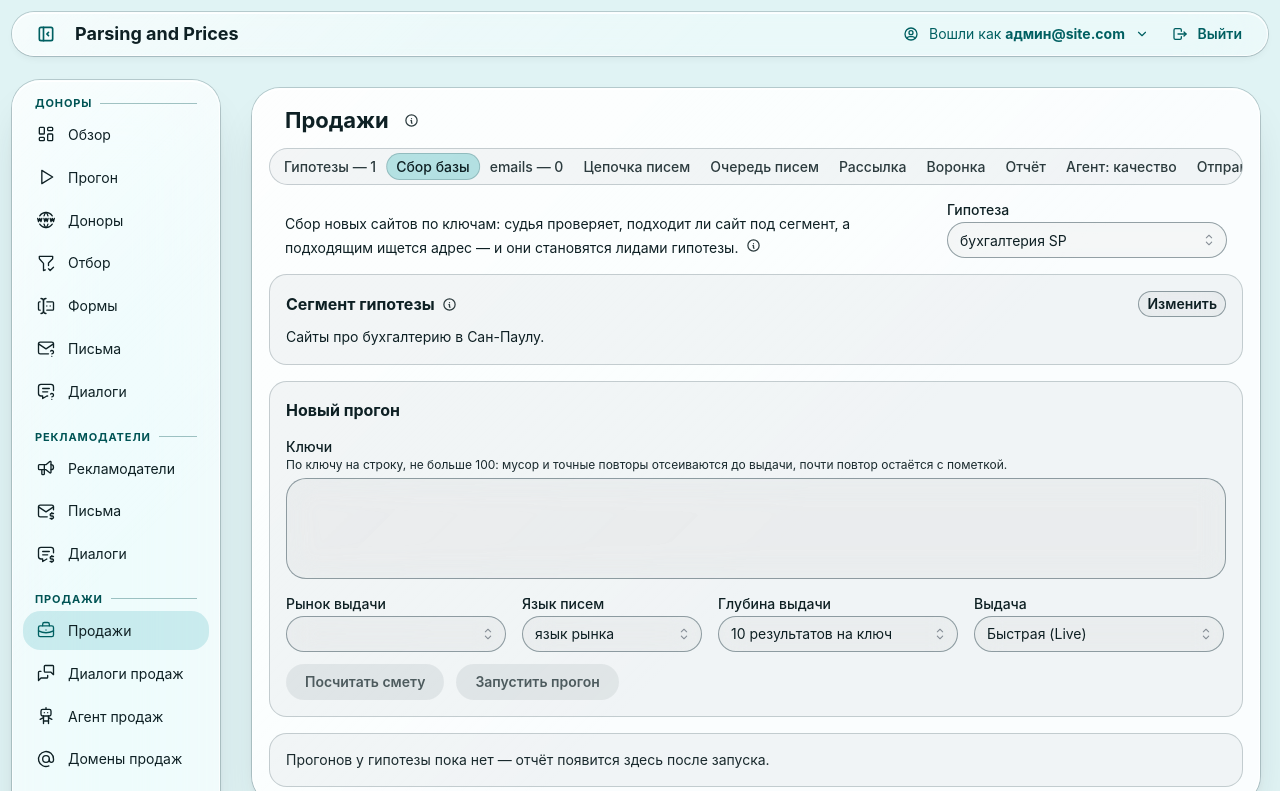
помощник описания: «Помочь с описанием» на «Сборе базы» › конкретный черновик — так и сказано; поправленное после ответа поле — помечено
Expected: the heading "Сегмент гипотезы" is shown, [286,292,435,316]
Click the button "Изменить" at (1182, 304), box [1138,291,1226,317]
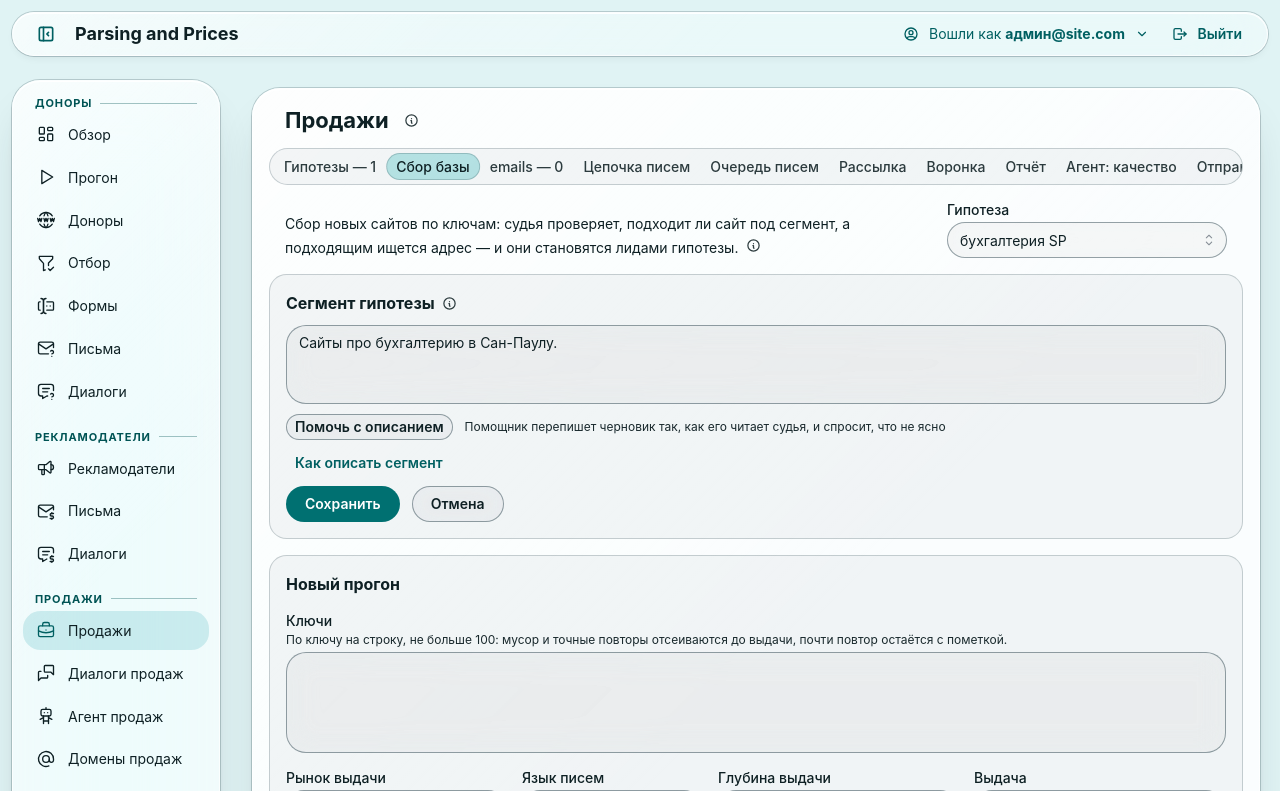
Clear the text box named "Описание сегмента" at (756, 365), box [286,325,1226,404]
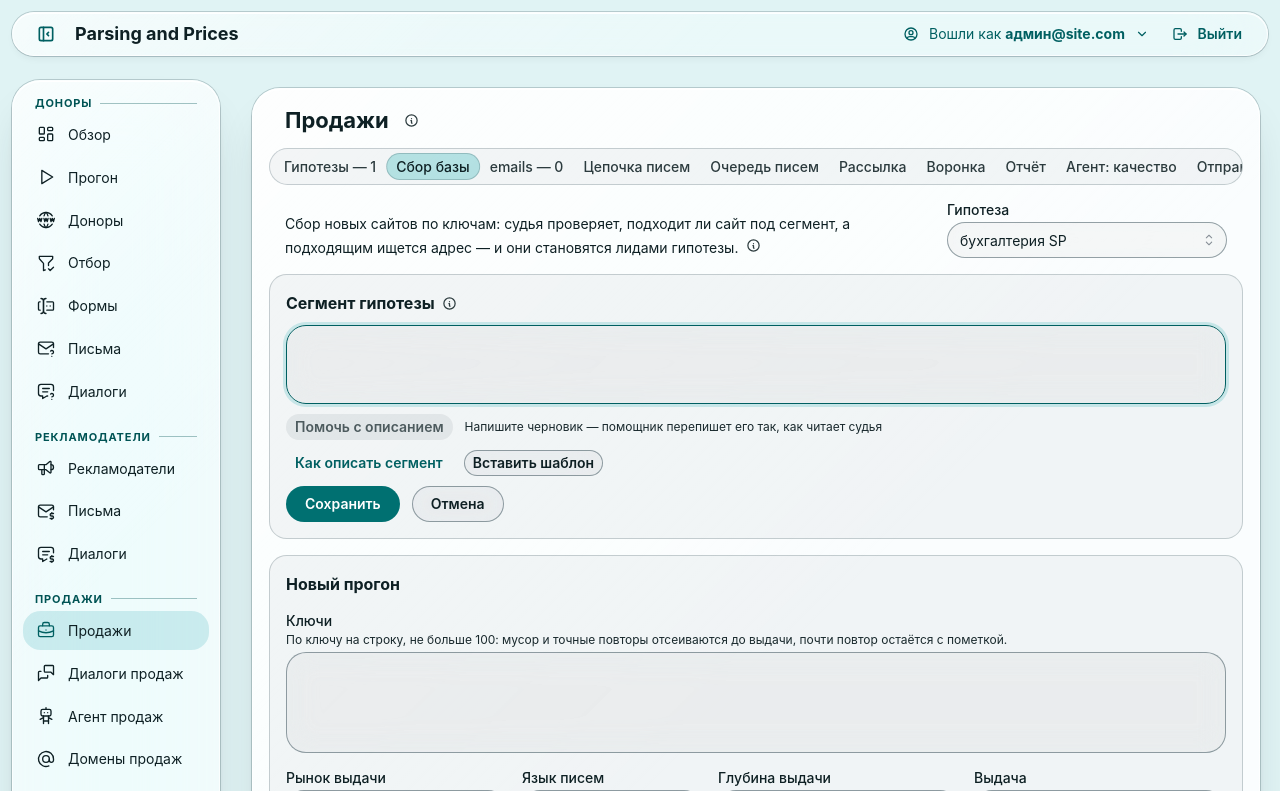
Type keys "Сайты, связанные с ветеринарными клиниками в Дублине"
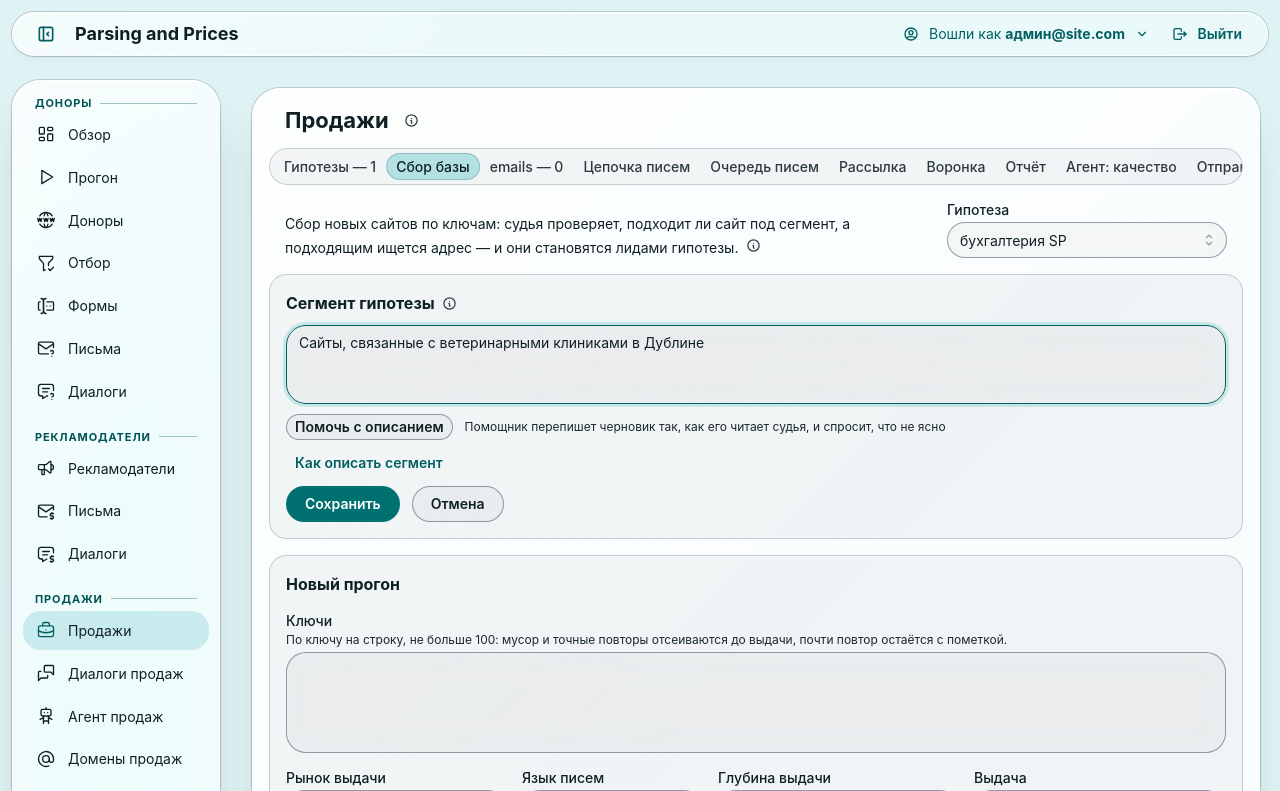
Click the button "Помочь с описанием" at (369, 427), box [286,414,453,440]
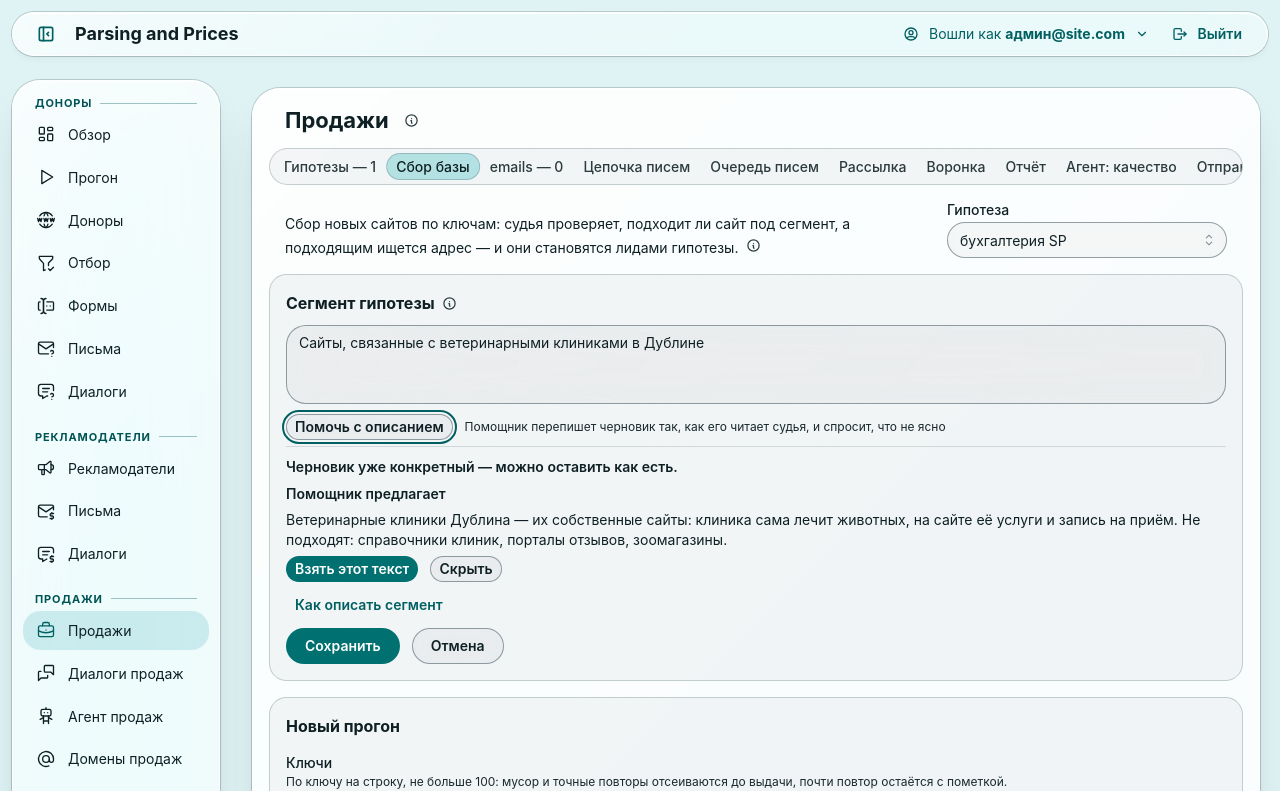
Expected: the text "Черновик уже конкретный — можно оставить как есть." is shown, [286,458,678,475]
Type "!" into the text box named "Описание сегмента" at (756, 365), box [286,325,1226,404]
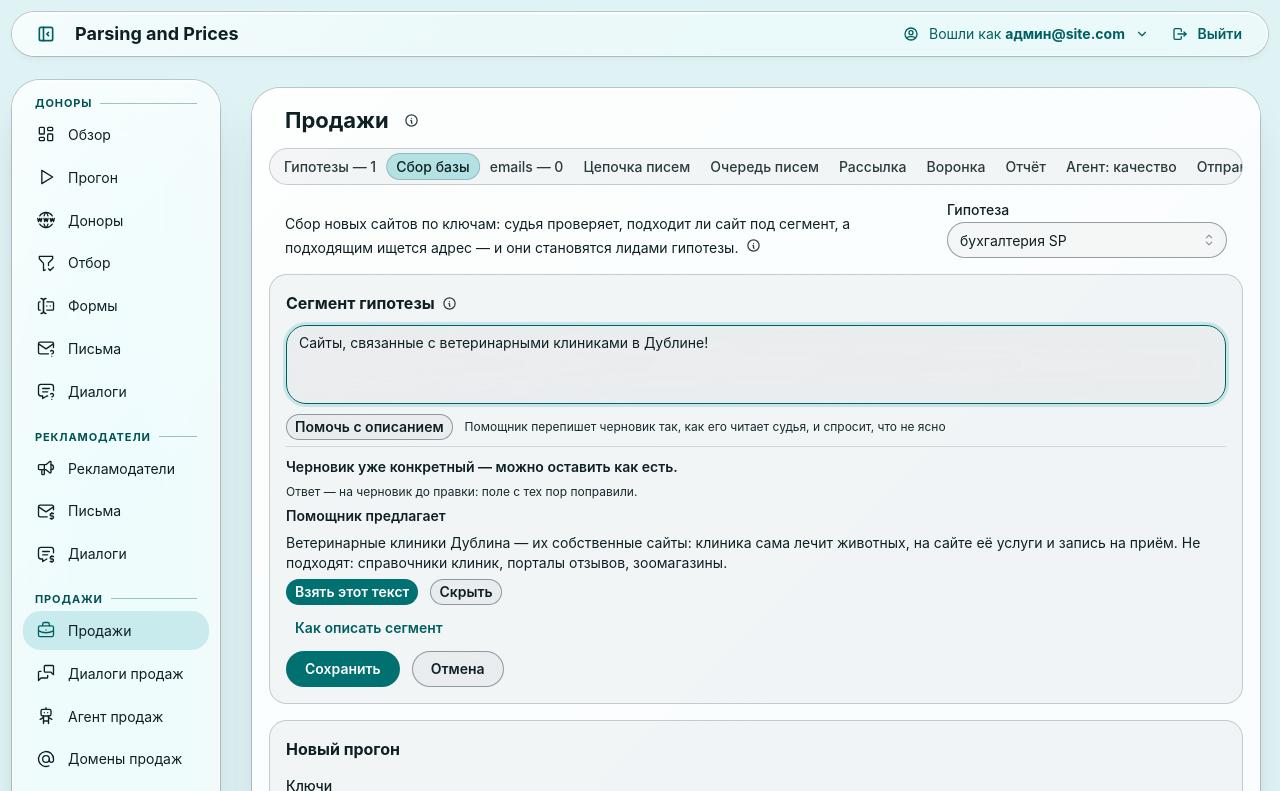
Expected: the text "Ответ — на черновик до правки: поле с тех пор поправили." is shown, [286,484,637,499]
